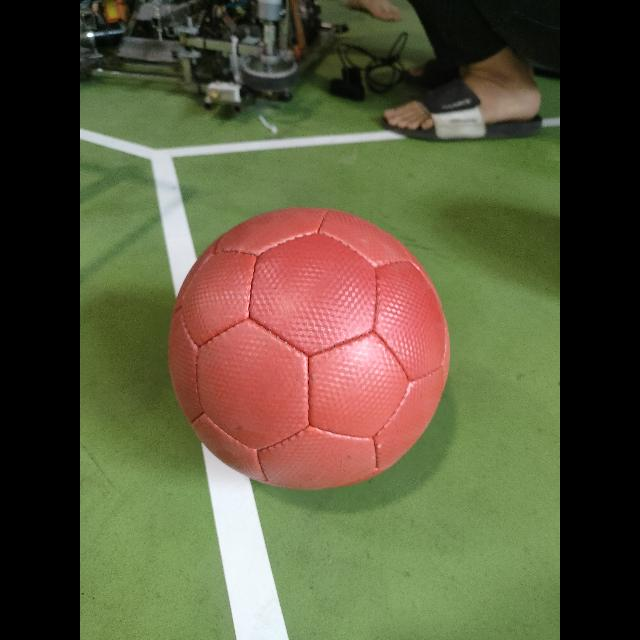R: (169, 208, 449, 490)
